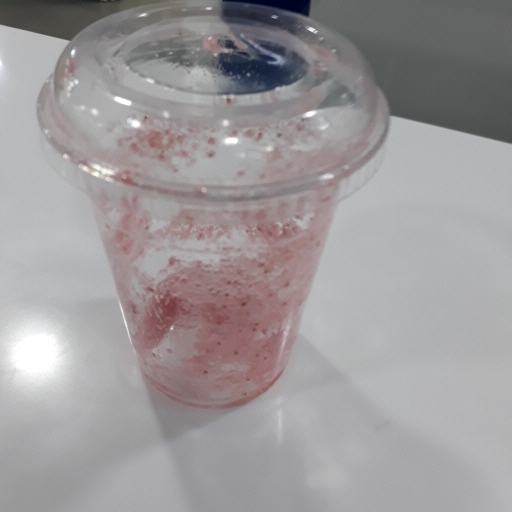Plastic_2: (38, 2, 389, 404)
